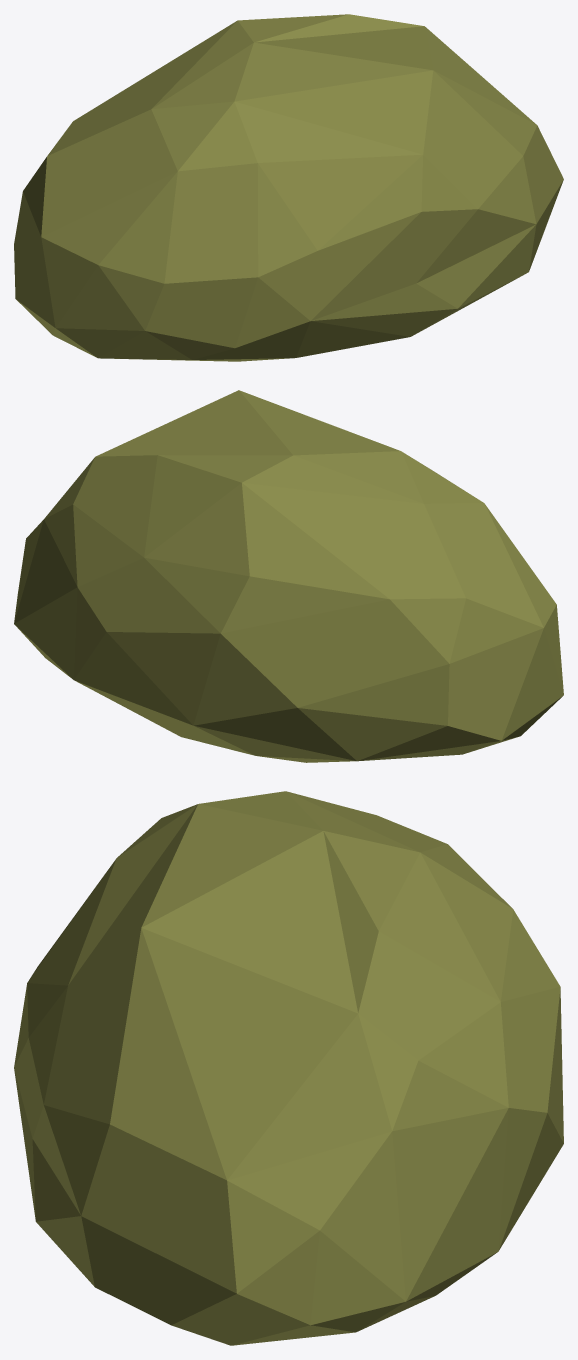
The model's file is greek_bush_2.fbx.
3 views of the same model, one above another, from view 1: azimuth 30°, elevation 25°; view 2: azimuth 150°, elevation 25°; view 3: azimuth 270°, elevation 25° (orthographic). The views are drawn at different scales.
Visible parts, largest first — view 1: Icosphere.001; view 2: Icosphere.001; view 3: Icosphere.001.
Boxes of the visible parts, box(x1,y1,x2,y2) form: Icosphere.001: box(14, 14, 563, 361); Icosphere.001: box(14, 390, 563, 762); Icosphere.001: box(14, 791, 563, 1345).
Bounding box in the file's own units: 189 × 96.11 × 122.
